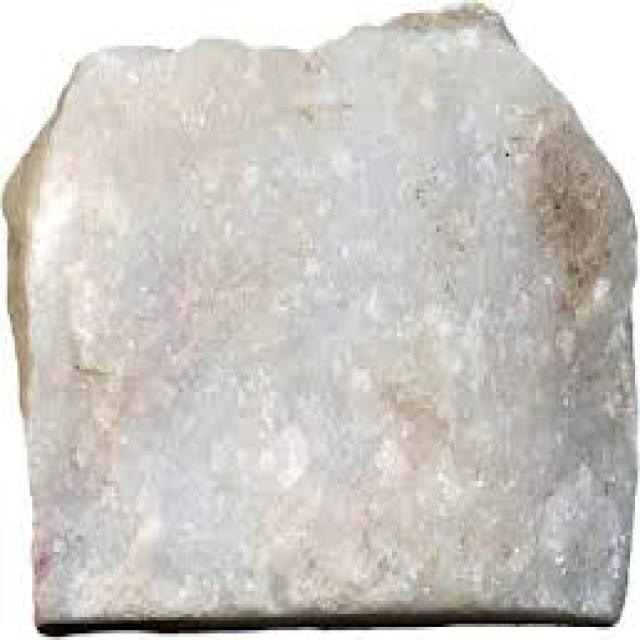Metamorphic: (2, 17, 632, 630)
